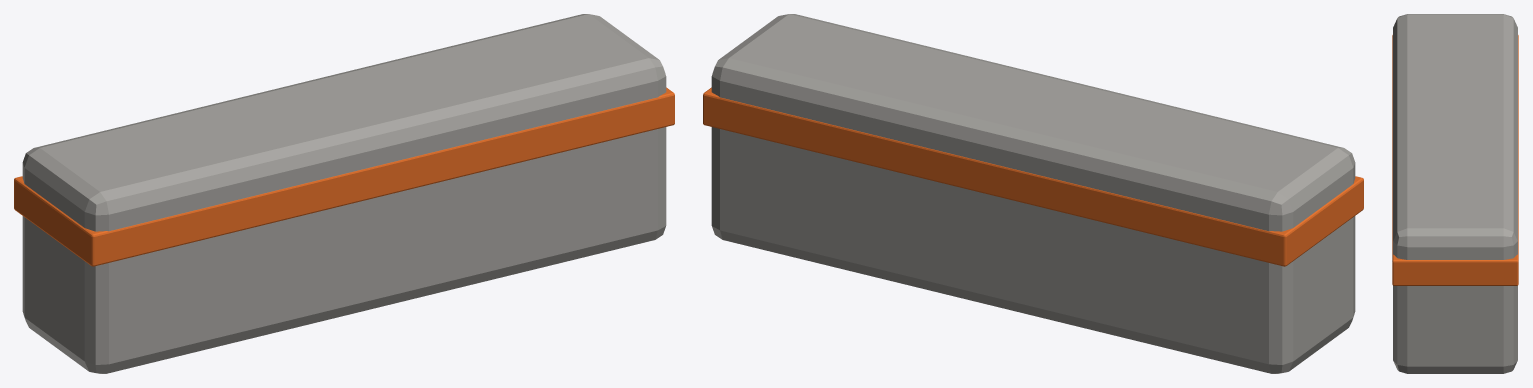
The model's file is barrier.glb.
The picture shows the model from 3 angles, left to right: view 1: azimuth 30°, elevation 25°; view 2: azimuth 150°, elevation 25°; view 3: azimuth 270°, elevation 25°; orthographic projection. The views are drawn at different scales.
Visible parts, largest first — view 1: Barrier; view 2: Barrier; view 3: Barrier.
Part boxes in pixels (left/top/right/bottom): Barrier: left=14, top=14, right=674, bottom=373; Barrier: left=703, top=14, right=1363, bottom=373; Barrier: left=1392, top=14, right=1518, bottom=373.
Bounding box in the file's own units: 3.02 × 0.9 × 0.71.
